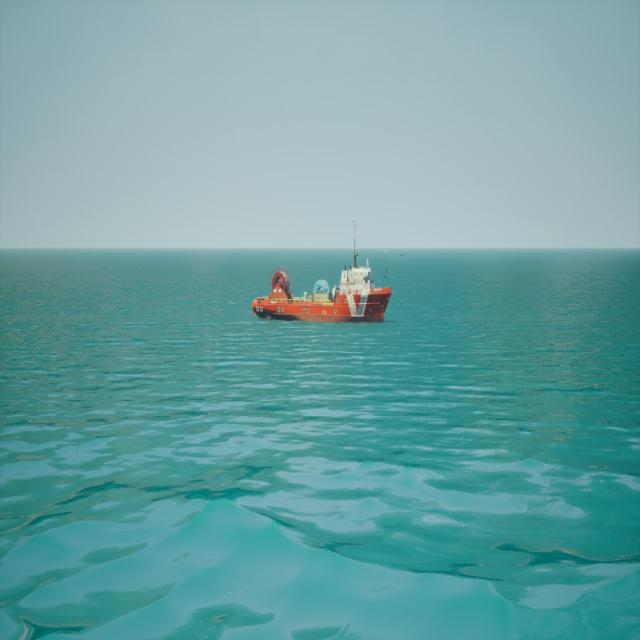tug boat: (254, 220, 394, 325)
